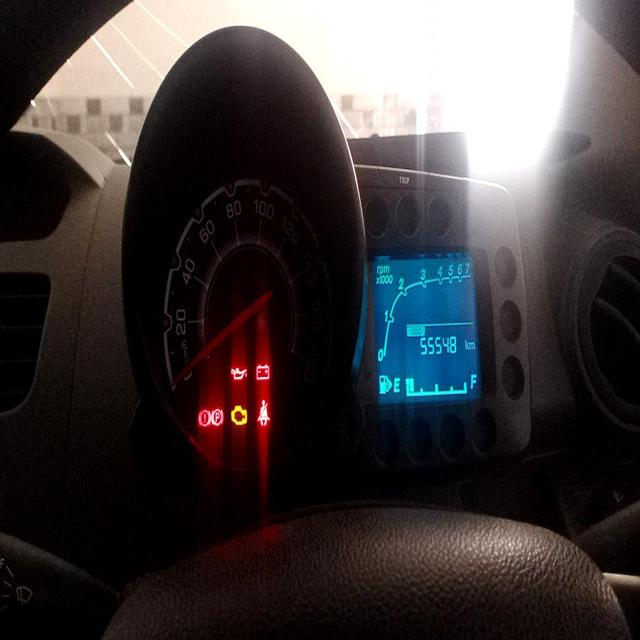odometer: (418, 334, 460, 358)
